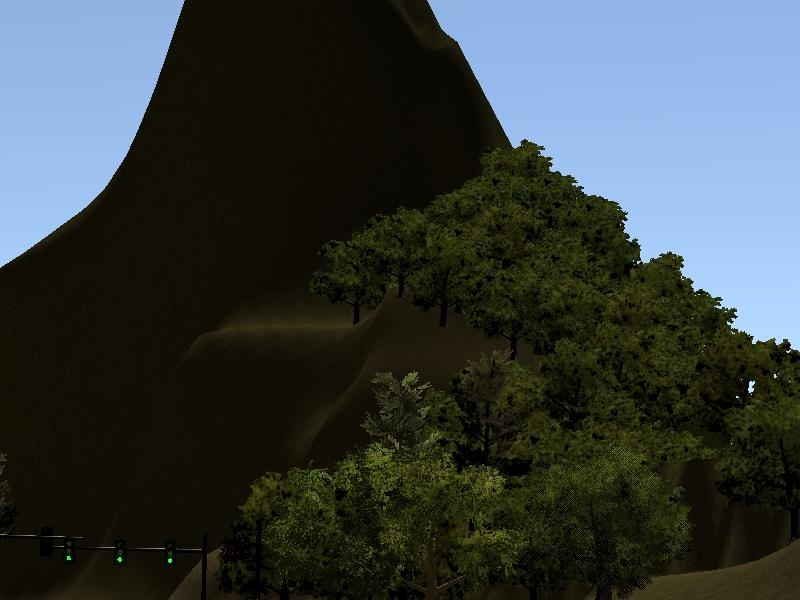GREEN: (112, 531, 131, 570), (60, 531, 80, 567), (159, 535, 177, 573)
